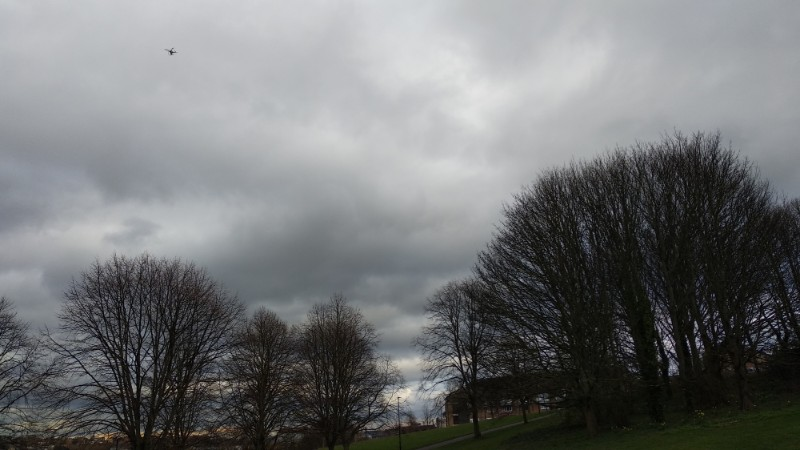drone: (163, 46, 178, 55)
